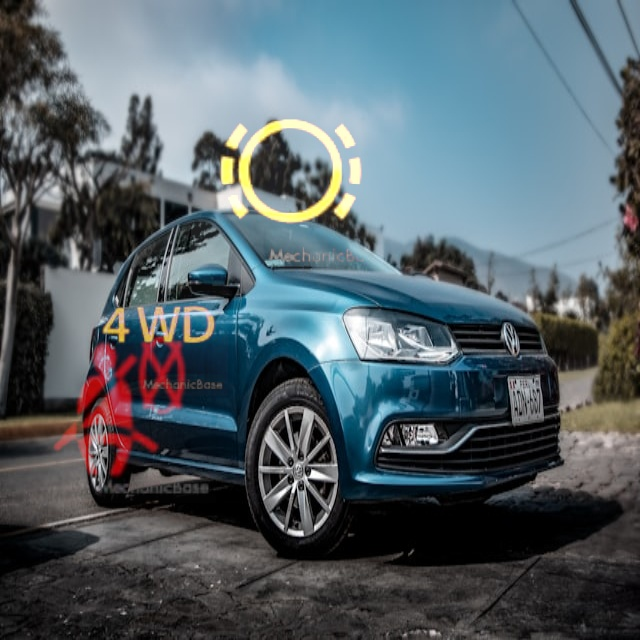symbol: (191, 73, 390, 272), (23, 310, 216, 503), (88, 256, 228, 396)
